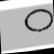no answer: (23, 7, 54, 35)
